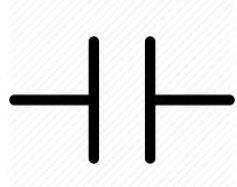Capacitor: (61, 26, 177, 170)
